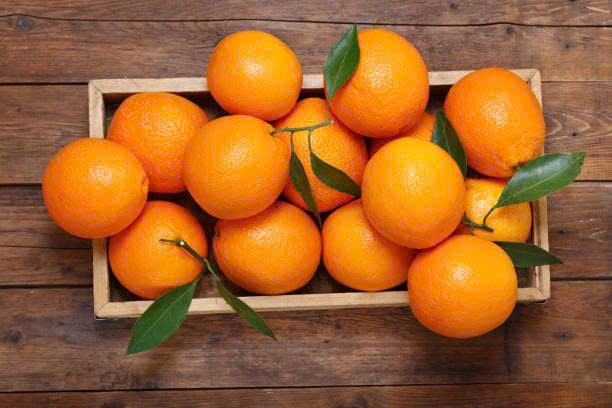orange: (333, 29, 460, 147), (445, 57, 560, 187), (109, 76, 207, 193), (378, 135, 479, 248), (426, 239, 533, 343), (215, 215, 337, 301), (51, 141, 155, 241), (204, 114, 298, 223), (200, 35, 310, 125), (111, 217, 210, 300), (327, 202, 410, 295)
